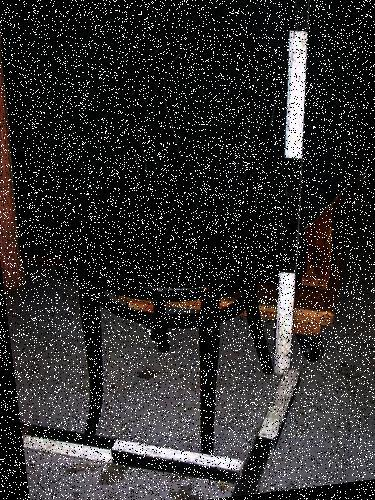Silla: (27, 25, 325, 468)
